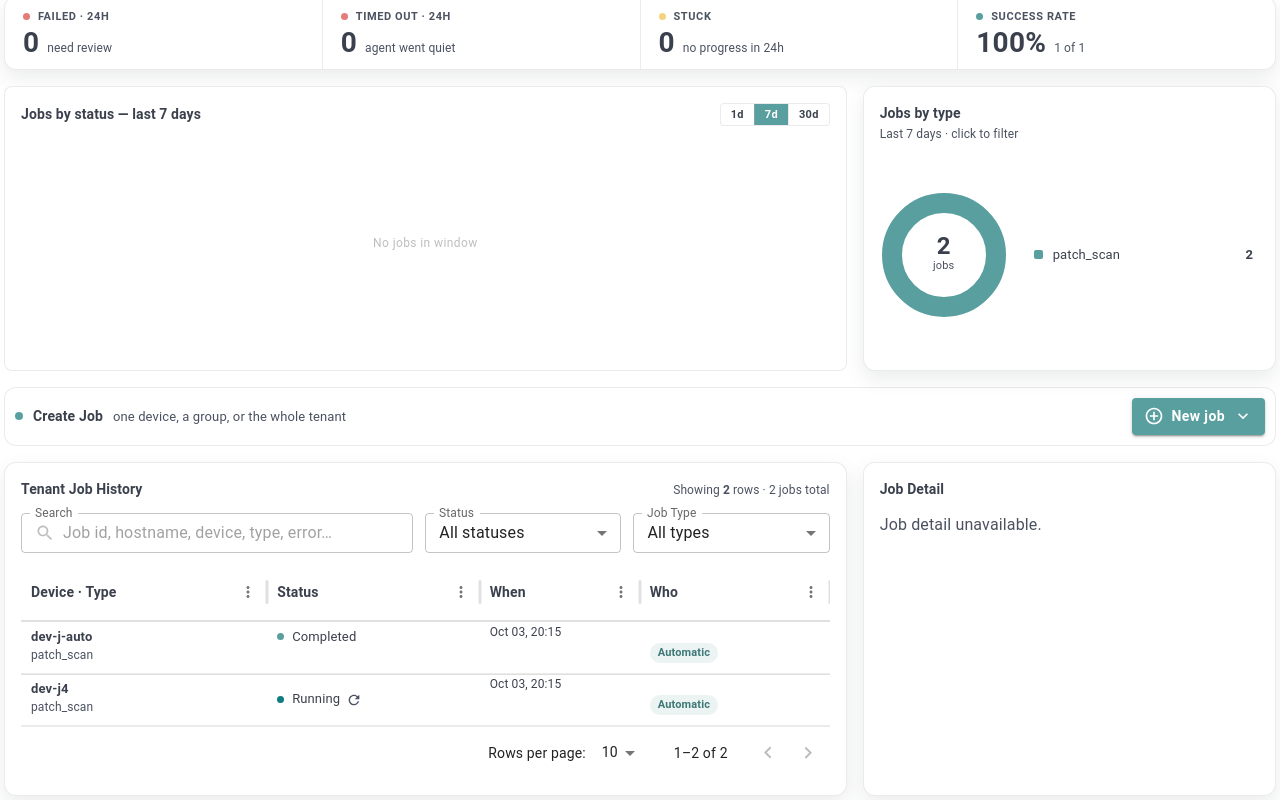
it: refrescar una sola fila del historial › ⚠️ al terminar, el botón desaparece: ya no hay nada que refrescar
(page scrolled)
Click the button named "refresh this job". click: (354, 700)
box: [344,690,364,710]
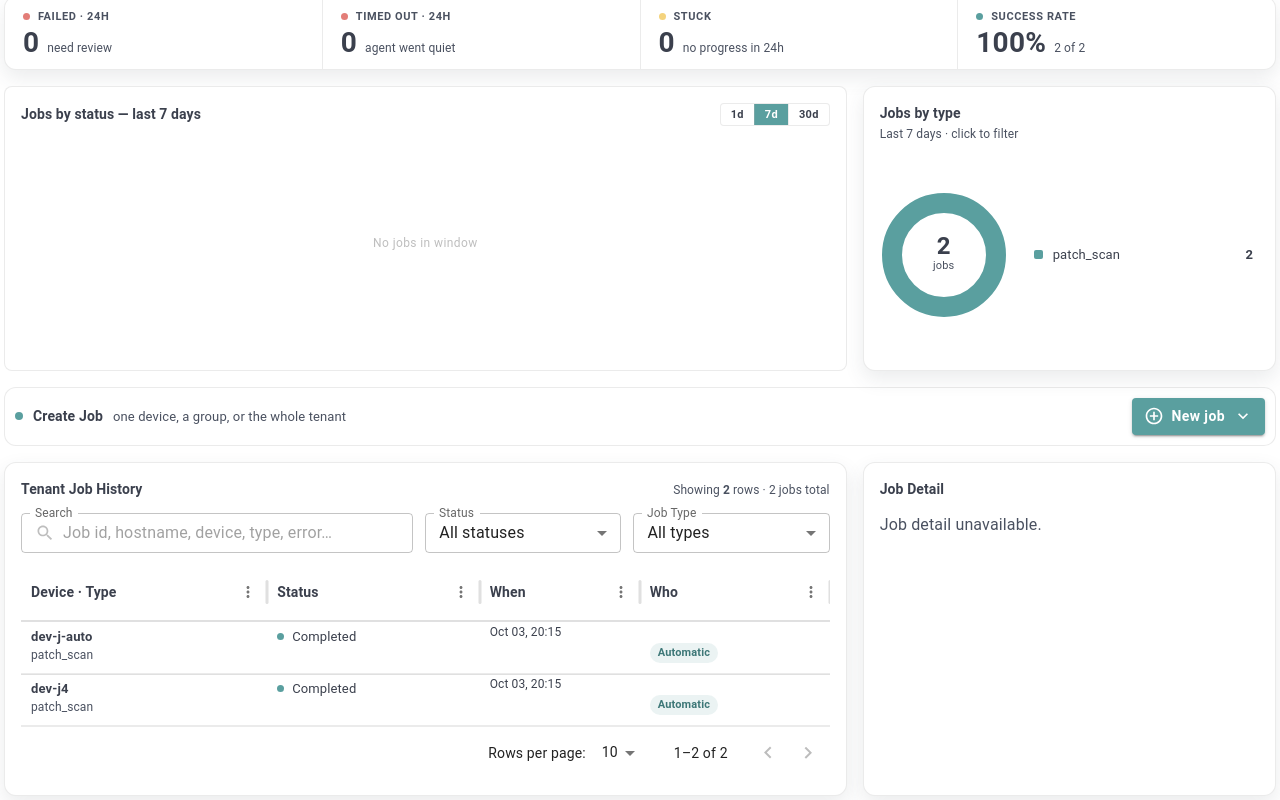
expect the text "Completed" in the row of "dev-j4" is shown: met, box [292,681,356,696]
